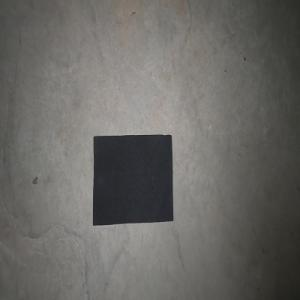PaintChip: (92, 134, 173, 225)
